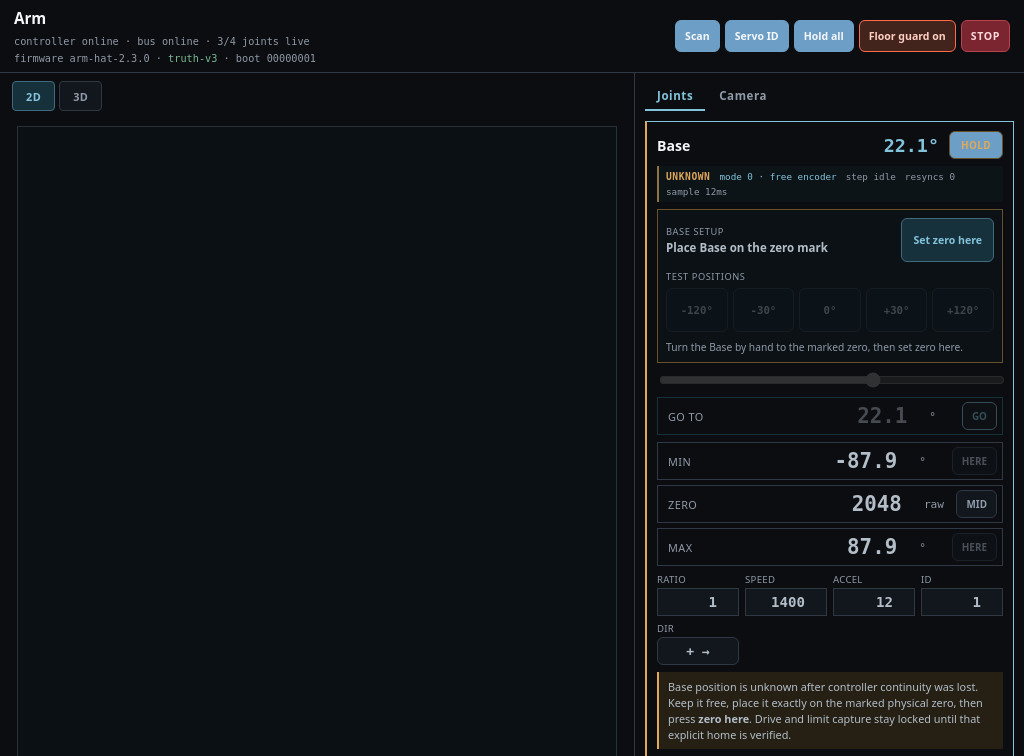
Test case: SimpleArm › shows the detailed Base homing refusal instead of a generic gateway banner
Expected: the text "Base position is unknown" is shown, [668,679,983,726]
Click the button with aria-label "Set Base zero here": (948, 240) [901,218,994,262]
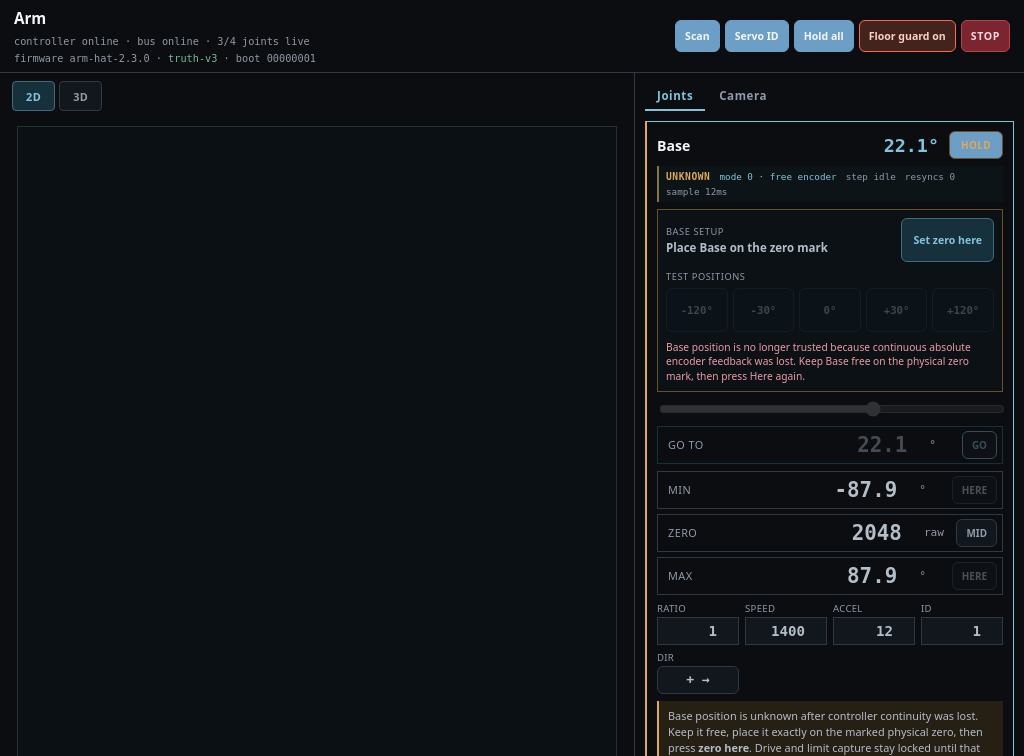
Expected: the text "Keep Base free on the physical zero mark" is shown, [666,340,971,383]
